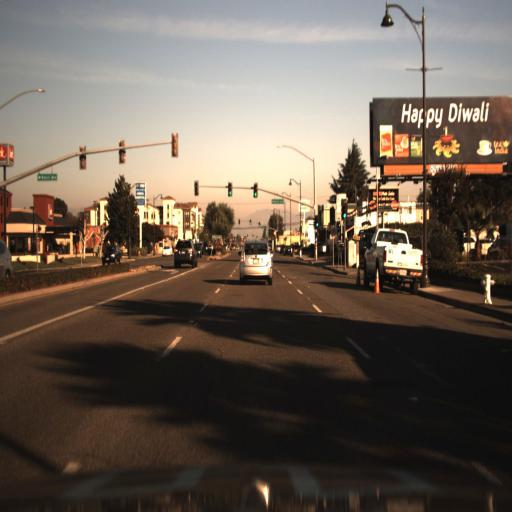car: (358, 224, 427, 291), (360, 222, 424, 284), (235, 235, 274, 286), (168, 234, 198, 269), (97, 240, 125, 269), (158, 242, 174, 258)
trafficLight: (192, 178, 202, 196)
trafficLight-Green: (340, 196, 349, 220), (251, 182, 259, 199), (227, 180, 234, 199), (313, 216, 321, 231), (344, 201, 350, 221), (226, 182, 232, 200), (252, 182, 258, 200), (314, 215, 320, 232)
